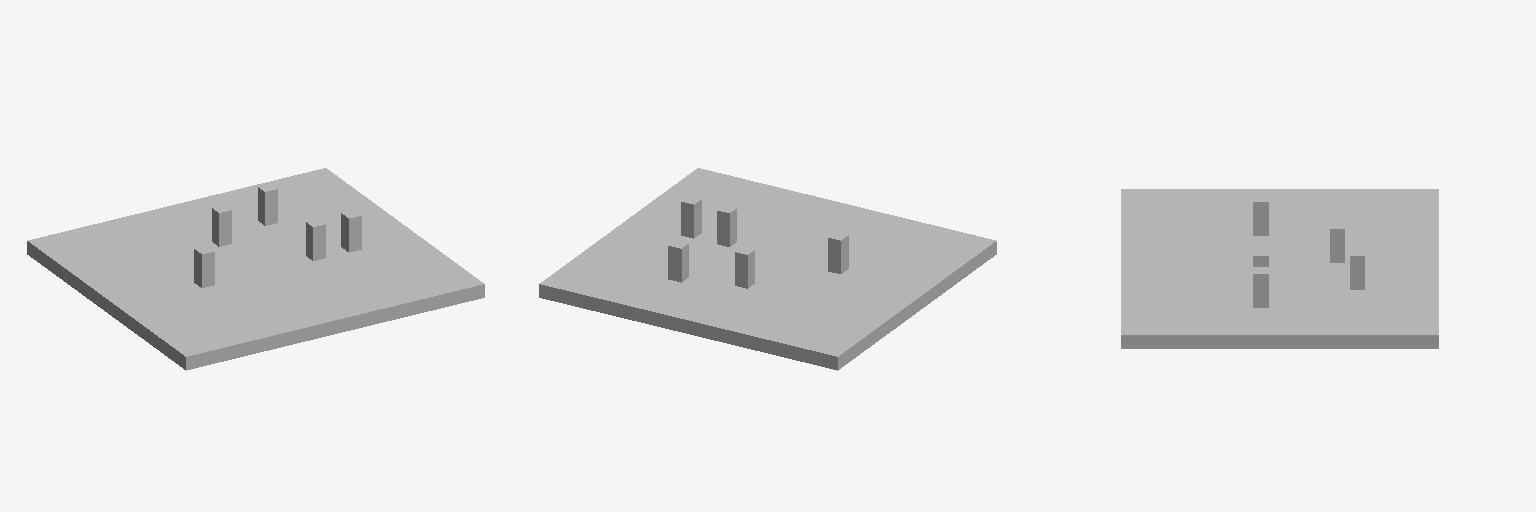
The model's file is world.obj.
The picture shows the model from 3 angles: view 1: azimuth 30°, elevation 25°; view 2: azimuth 150°, elevation 25°; view 3: azimuth 270°, elevation 25°; orthographic projection.
Parts seen in each view (by area): view 1: Cube, Cube.005, Cube.002, Cube.001, Cube.003, Cube.004; view 2: Cube, Cube.002, Cube.003, Cube.005, Cube.004, Cube.001; view 3: Cube, Cube.005, Cube.002, Cube.003, Cube.004.
Boxes of the visible parts, box(x1,y1,x2,y2) form: Cube: box(27, 168, 484, 370); Cube.005: box(341, 210, 361, 252); Cube.002: box(194, 246, 214, 287); Cube.001: box(306, 219, 325, 260); Cube.003: box(258, 183, 277, 225); Cube.004: box(212, 205, 231, 246); Cube: box(539, 168, 996, 370); Cube.002: box(828, 232, 848, 273); Cube.003: box(668, 240, 688, 282); Cube.005: box(681, 196, 701, 238); Cube.004: box(735, 246, 754, 288); Cube.001: box(717, 205, 736, 246); Cube: box(1121, 189, 1438, 348); Cube.005: box(1253, 267, 1268, 307); Cube.002: box(1253, 196, 1268, 235); Cube.003: box(1350, 250, 1364, 289); Cube.004: box(1330, 223, 1344, 262).
Bounding box in the file's own units: 45.64 × 8.05 × 42.03.